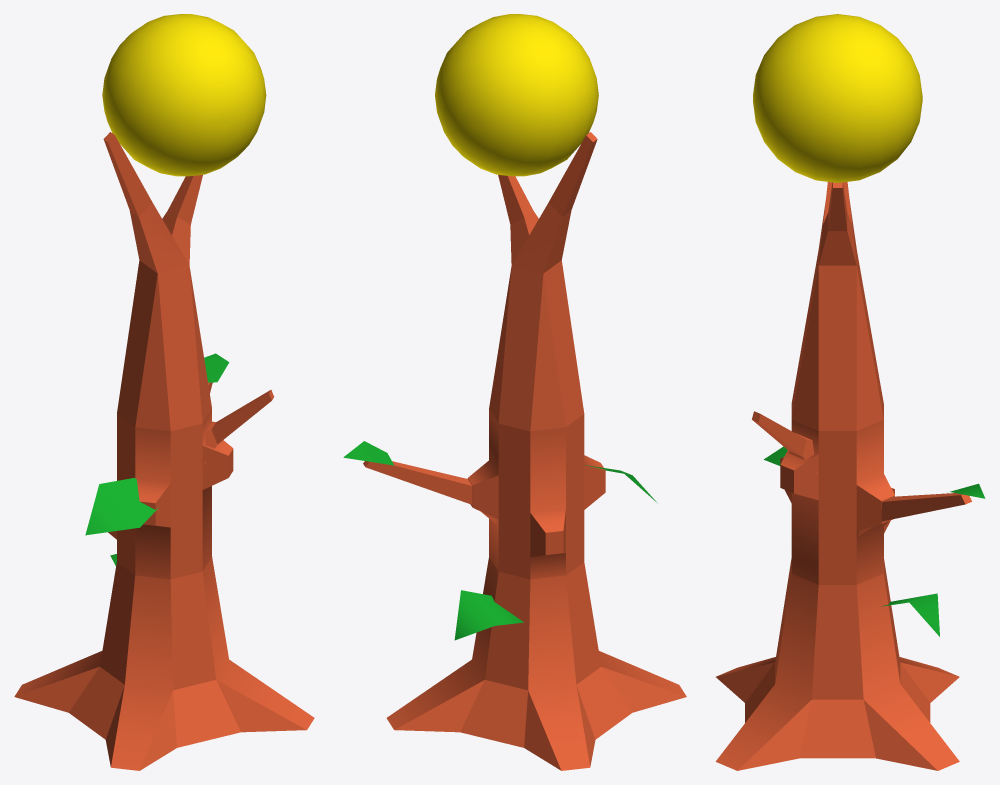
Rendered from EnergyTower.fbx.
The picture shows the model from 3 angles, left to right: view 1: azimuth 30°, elevation 25°; view 2: azimuth 150°, elevation 25°; view 3: azimuth 270°, elevation 25°; orthographic projection. The views are drawn at different scales.
Visible parts, largest first — view 1: mergedBlocks; view 2: mergedBlocks; view 3: mergedBlocks.
Boxes of the visible parts, bbox=[...] form: mergedBlocks: bbox=[14, 14, 314, 770]; mergedBlocks: bbox=[343, 14, 686, 770]; mergedBlocks: bbox=[715, 14, 985, 770].
Bounding box in the file's own units: 7.93 × 23 × 7.95.
